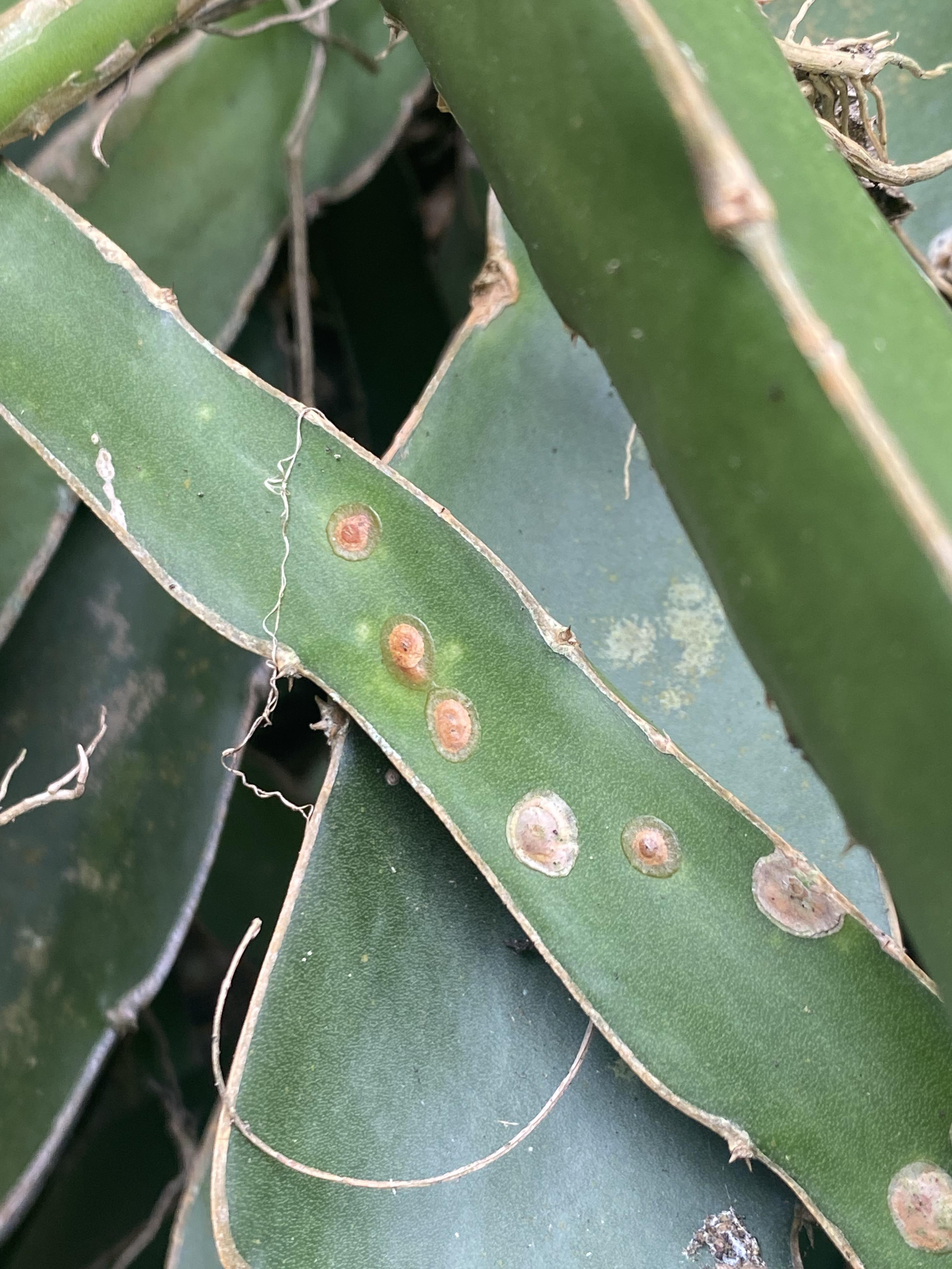stemcanker: (745, 844, 850, 941), (503, 787, 583, 881), (881, 1153, 952, 1256), (615, 809, 687, 884), (423, 686, 484, 764), (379, 610, 437, 688), (323, 500, 386, 565)
